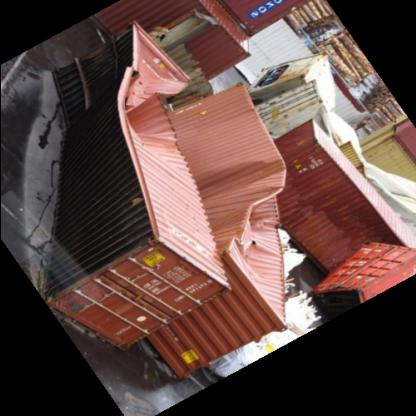Damage: (46, 27, 190, 184), (216, 87, 292, 335), (352, 137, 415, 271)
